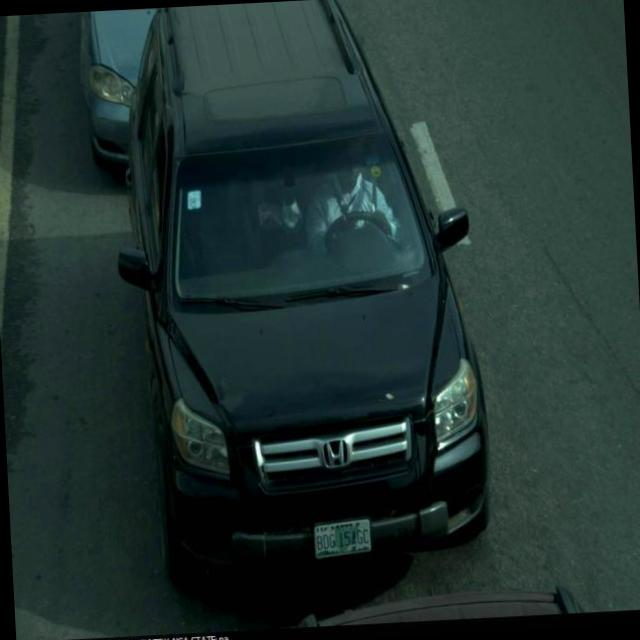person_with_seatbelt: (308, 134, 410, 276)
